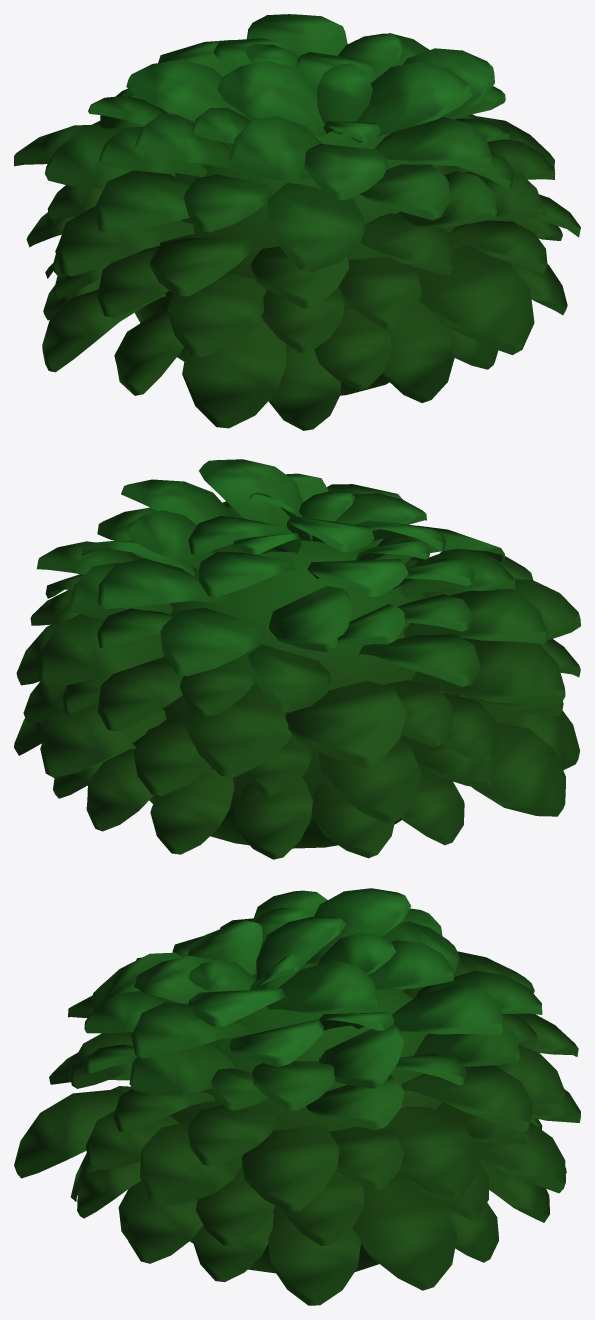
Rendered from S_BushPurpleSimple.fbx.
The picture shows the model from 3 angles, top to bottom: view 1: azimuth 30°, elevation 25°; view 2: azimuth 150°, elevation 25°; view 3: azimuth 270°, elevation 25°; orthographic projection. The views are drawn at different scales.
Visible parts, largest first — view 1: S_BushPurpleSimple; view 2: S_BushPurpleSimple; view 3: S_BushPurpleSimple.
Part boxes in pixels (box(x1,y1,x2,y2)): S_BushPurpleSimple: box(14, 14, 580, 430); S_BushPurpleSimple: box(14, 459, 580, 859); S_BushPurpleSimple: box(14, 888, 580, 1305).
Bounding box in the file's own units: 260 × 141 × 253.
